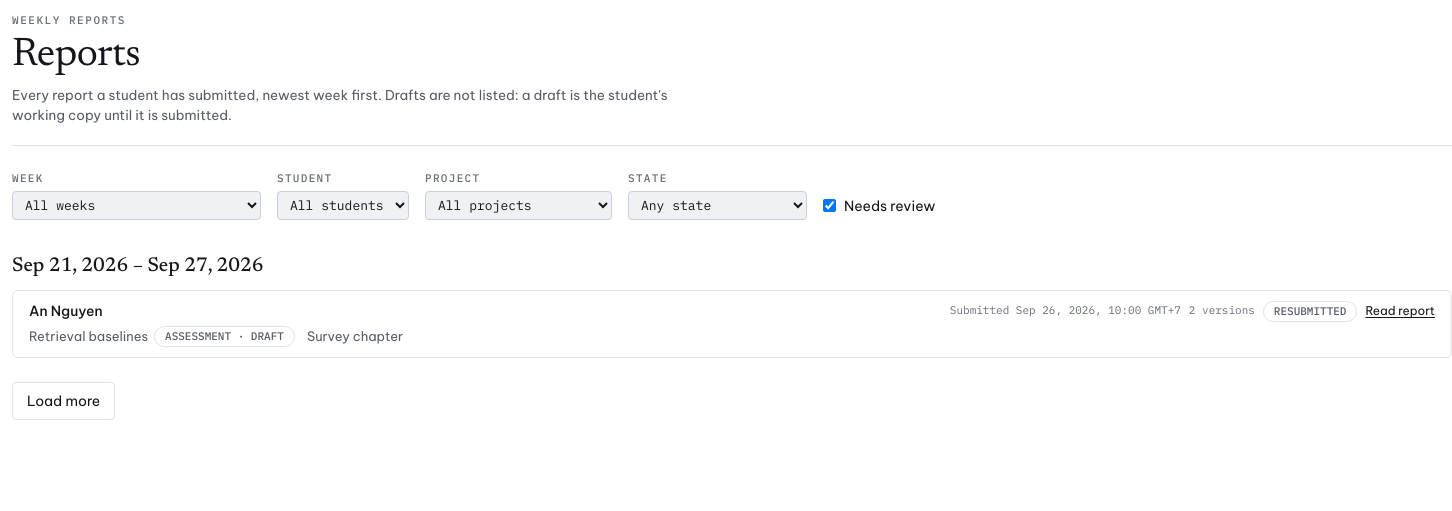
loads the next page on request, and stops offering when there is none
Expected: the number of list items with test id "report-row" is 1, [13, 290, 1451, 356]
Click the button "Load more".
click(64, 400)  # box [12, 382, 115, 420]
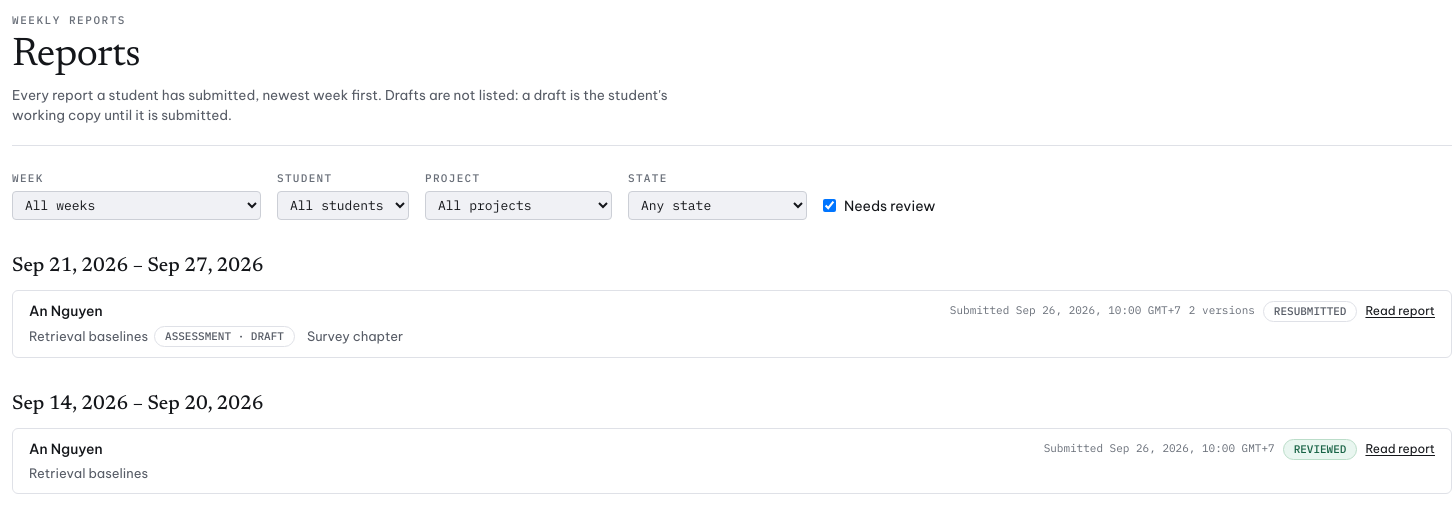
Now the number of list items with test id "report-row" is 2, box [13, 290, 1451, 356]; [13, 428, 1451, 492]
Now the button "Load more" is gone
